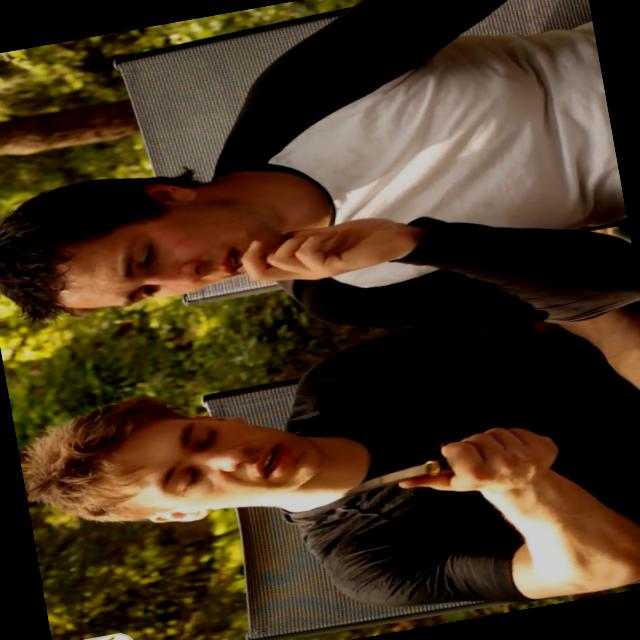knife: (304, 419, 530, 521)
